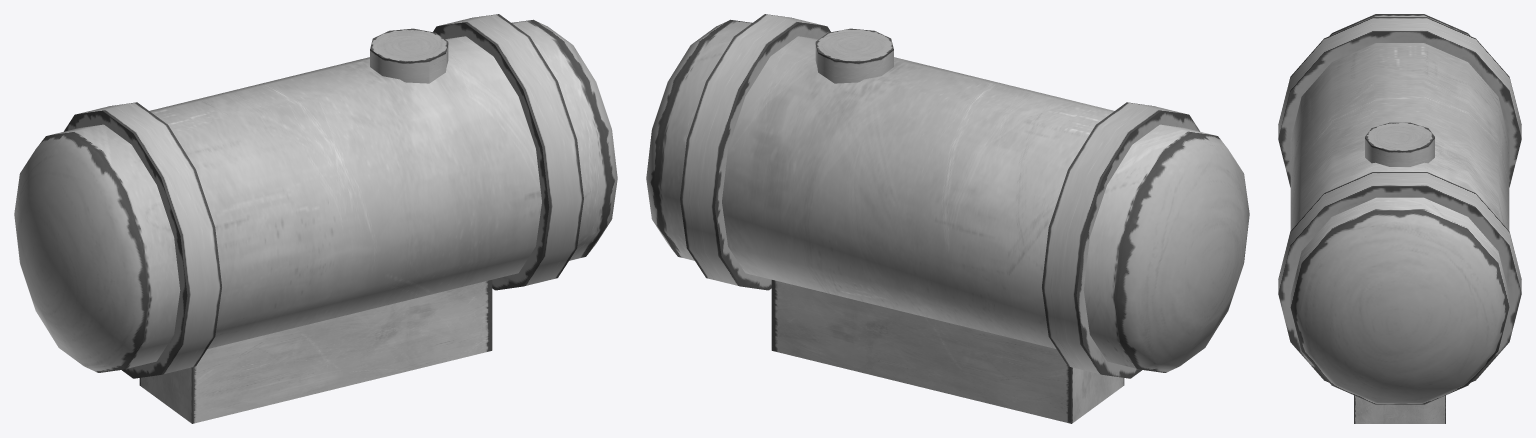
File: SM_Tank_01.fbx
3 renders of one model, left to right at view 1: azimuth 30°, elevation 25°; view 2: azimuth 150°, elevation 25°; view 3: azimuth 270°, elevation 25°, orthographic. The views are drawn at different scales.
Visible parts, largest first — view 1: SM_Tank_01; view 2: SM_Tank_01; view 3: SM_Tank_01.
Part boxes in pixels (x1,y1,x2,y2): SM_Tank_01: (14, 14, 617, 423); SM_Tank_01: (646, 14, 1249, 423); SM_Tank_01: (1278, 14, 1521, 423).
Size of the model in its own units: 1020 by 531 by 446.
